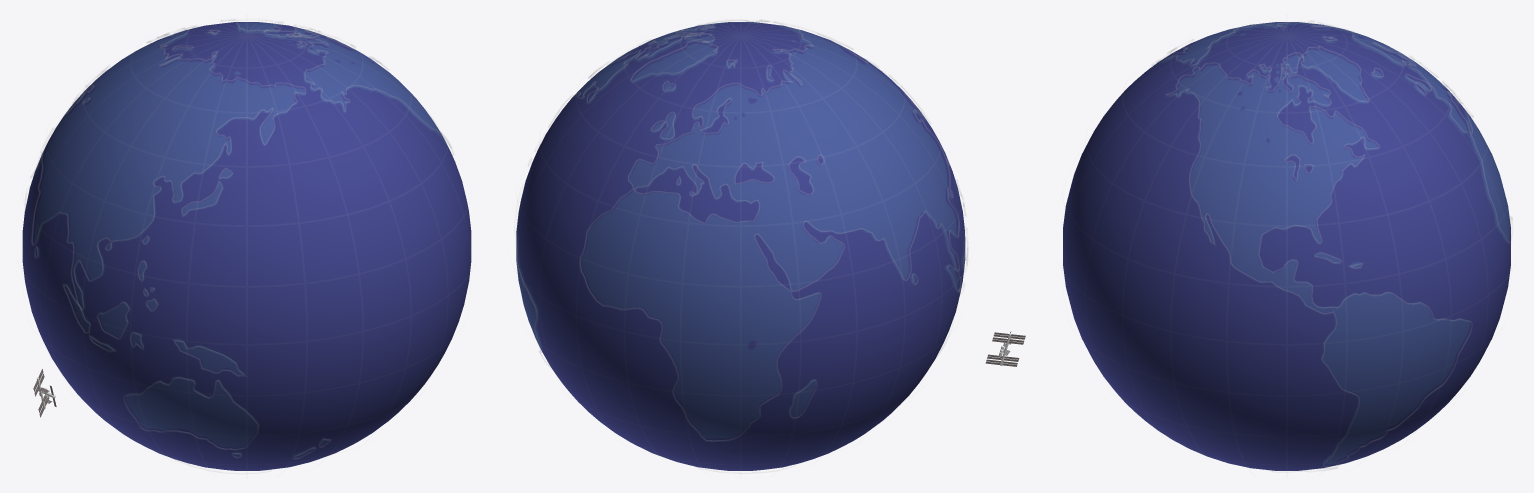
File: globe_export.gltf
3 renders of one model, left to right at view 1: azimuth 30°, elevation 25°; view 2: azimuth 150°, elevation 25°; view 3: azimuth 270°, elevation 25°, orthographic.
Visible parts, largest first — view 1: globe_base, globe_shoreline; view 2: globe_base, globe_shoreline, iss_solar_panels; view 3: globe_base, globe_shoreline.
Part boxes in pixels (box(x1,y1,x2,y2)): globe_base: box(22, 22, 471, 470); globe_shoreline: box(25, 19, 453, 473); globe_base: box(516, 22, 965, 470); globe_shoreline: box(515, 19, 968, 473); iss_solar_panels: box(985, 331, 1025, 366); globe_base: box(1063, 22, 1510, 470); globe_shoreline: box(1152, 20, 1513, 471).
Size of the model in its own units: 14752 by 13166 by 13185.
Materials: 5 (1 with a texture image).
